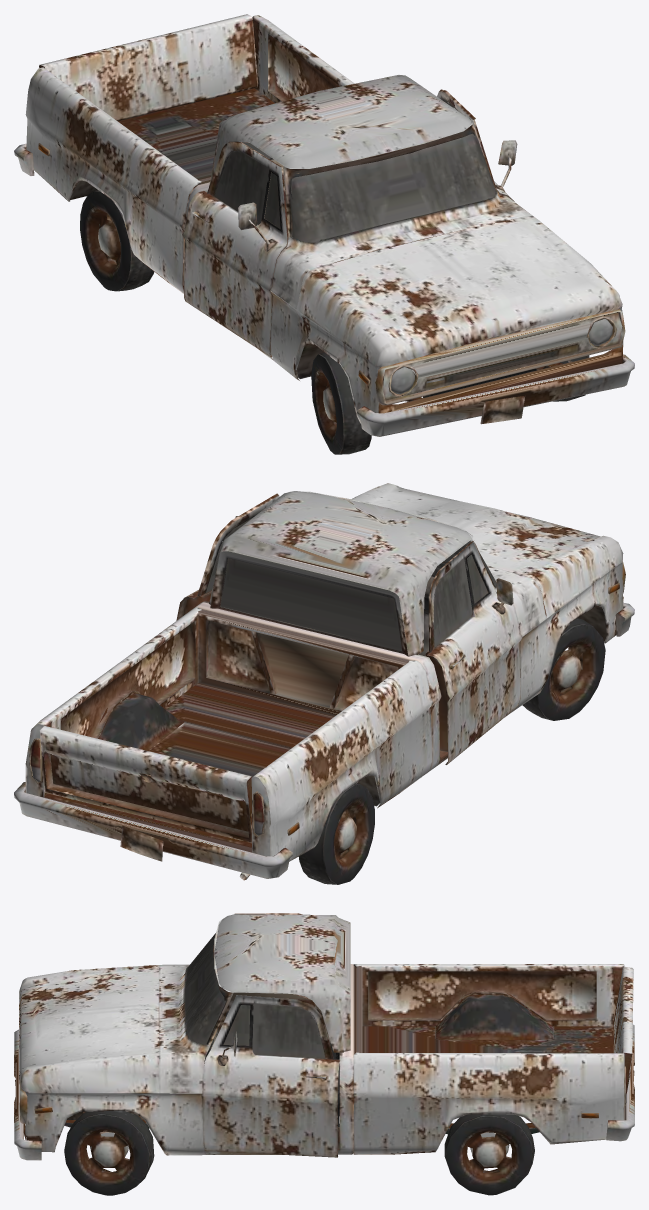
The model's file is pickup_truck_a_green.glb.
3 renders of one model, top to bottom at view 1: azimuth 30°, elevation 25°; view 2: azimuth 150°, elevation 25°; view 3: azimuth 270°, elevation 25°, orthographic. The views are drawn at different scales.
Parts seen in each view (by area): view 1: pickup_truck_a_LOD0; view 2: pickup_truck_a_LOD0; view 3: pickup_truck_a_LOD0.
Boxes of the visible parts, box(x1,y1,x2,y2) form: pickup_truck_a_LOD0: box(14, 14, 634, 454); pickup_truck_a_LOD0: box(14, 483, 634, 884); pickup_truck_a_LOD0: box(14, 913, 634, 1195).
Size of the model in its own units: 2.63 by 2.12 by 5.92.
Materials: 1 (1 with a texture image).
